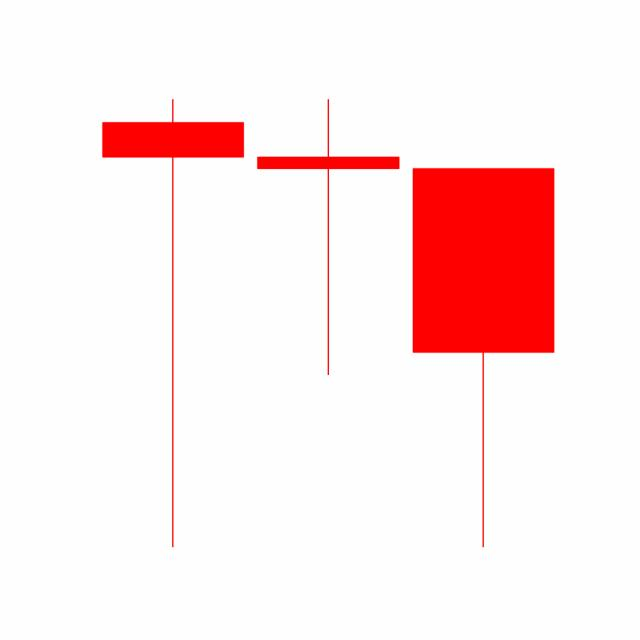Spinning Top: (249, 95, 406, 378)
